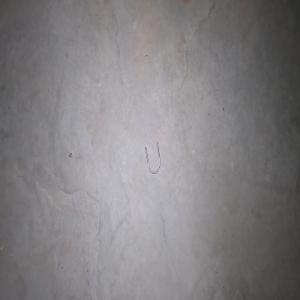ClampPart: (144, 140, 160, 174)
